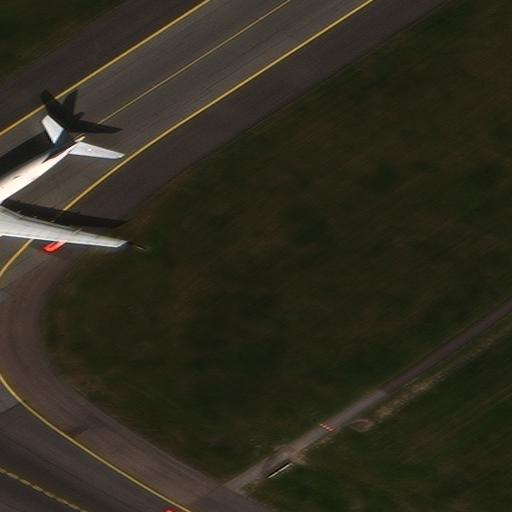Large Civil Transport: (0, 135, 117, 266)
